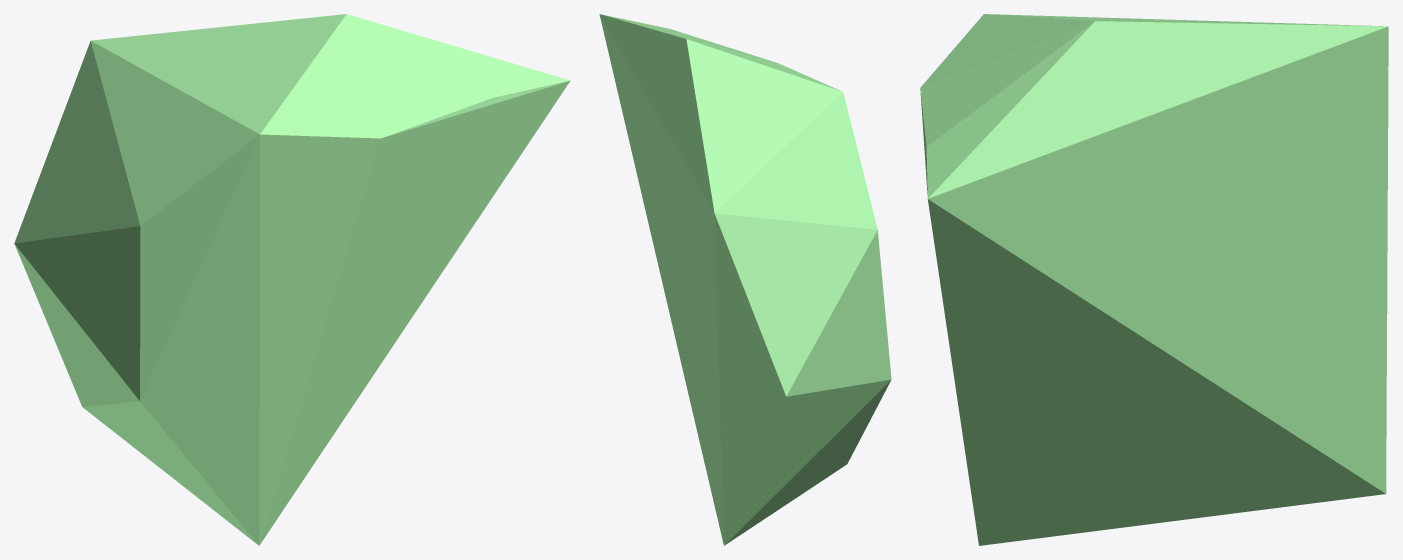
The model's file is linkhou_LR4_R560_link6_respondable_coll_25.dae.
3 views of the same model, side by side, from view 1: azimuth 30°, elevation 25°; view 2: azimuth 150°, elevation 25°; view 3: azimuth 270°, elevation 25° (orthographic). The views are drawn at different scales.
Visible parts, largest first — view 1: Node_00000209DB3AA780; view 2: Node_00000209DB3AA780; view 3: Node_00000209DB3AA780.
Boxes of the visible parts, bbox=[...] form: Node_00000209DB3AA780: bbox=[14, 14, 570, 545]; Node_00000209DB3AA780: bbox=[599, 14, 891, 545]; Node_00000209DB3AA780: bbox=[920, 14, 1388, 545].
Size of the model in its own units: 0.0468 by 0.0548 by 0.0382.
